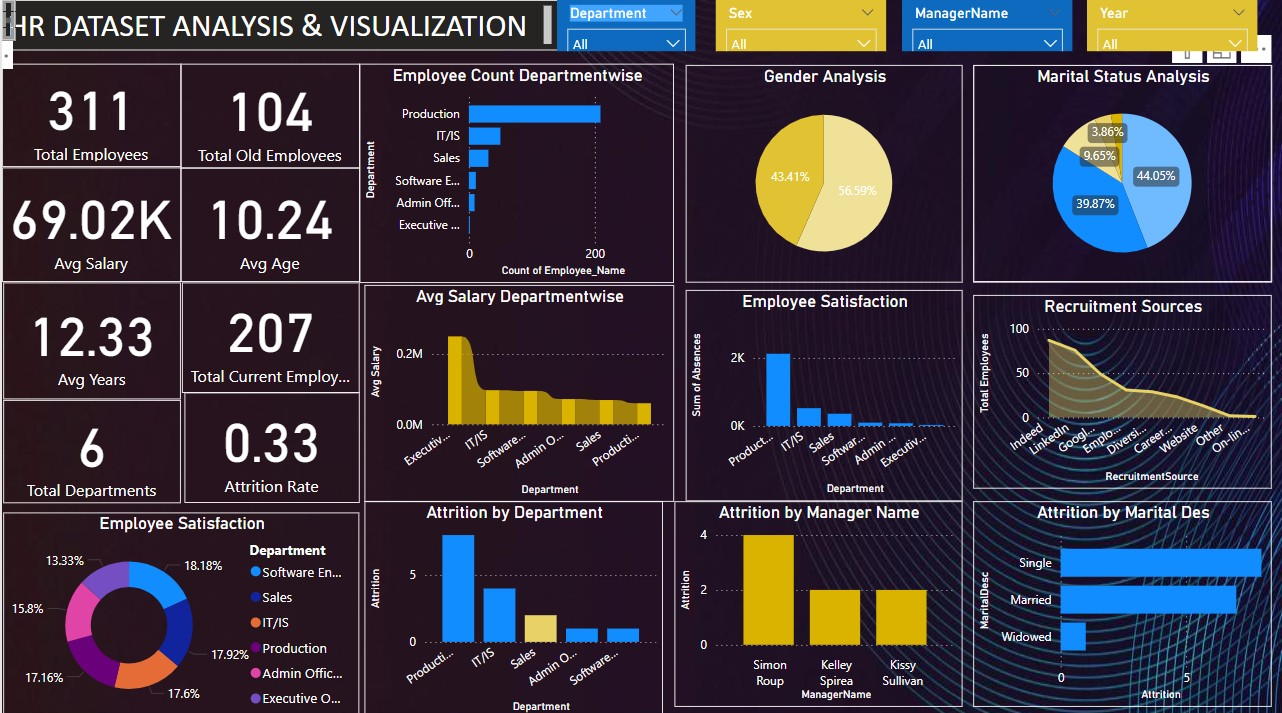

The page's visual inventory and layout, read from the dashboard file:
{"tool":"powerbi","page":{"name":"Page 1","canvas":[1280,720],"ordinal":0},"visuals":[{"type":"textbox","box":[0,0,555.7,50.8],"z":0},{"type":"card","fields":{"Values":["AllEmployees.Total Employees"]},"box":[0,63.2,178.9,103.6],"z":1000},{"type":"card","fields":{"Values":["AllEmployees.Total Old Employees"]},"box":[178.9,63.2,178.9,104.9],"z":2000},{"type":"card","fields":{"Values":["AllEmployees.Avg Salary"]},"box":[0,168.1,178.9,114.3],"z":3000},{"type":"card","fields":{"Values":["AllEmployees.Avg Age"]},"box":[178.9,168.1,178.9,114.3],"z":4000},{"type":"card","fields":{"Values":["AllEmployees.Avg Years"]},"box":[1.3,282.4,177.5,117],"z":5000},{"type":"card","title":"C","fields":{"Values":["AllEmployees.Total Current Employees"]},"box":[180.2,282.4,177.5,110.3],"z":6000},{"type":"card","fields":{"Values":["AllEmployees.Total Departments"]},"box":[1.3,399.4,177.5,103.6],"z":7000},{"type":"card","fields":{"Values":["AllEmployees.Attrition Rate"]},"box":[182.9,392.7,174.8,110.3],"z":8000},{"type":"donutChart","title":"Employee Satisfaction","fields":{"Y":["AllEmployees.EmpSatisfaction"],"Category":["AllEmployees.Department"]},"box":[1.3,512.4,356.4,207.1],"z":9000},{"type":"barChart","title":"Employee Count Departmentwise","fields":{"Category":["AllEmployees.Department"],"Y":["AllEmployees.Employee_Name"]},"box":[357.7,63.2,314.7,219.2],"z":10000},{"type":"pieChart","title":"Gender Analysis","fields":{"Category":["AllEmployees.Sex"],"Y":["AllEmployees.GenderID"]},"box":[683.2,64.6,277,217.9],"z":11000},{"type":"pieChart","title":"Marital Status Analysis","fields":{"Category":["AllEmployees.MaritalStatusID"],"Y":["AllEmployees.MaritalStatusID"]},"box":[971,64.6,298.6,217.9],"z":12000},{"type":"ribbonChart","title":"Avg Salary Departmentwise","fields":{"Category":["AllEmployees.Department"],"Y":["AllEmployees.Avg Salary"]},"box":[363.1,285.1,309.3,216.5],"z":13000},{"type":"clusteredColumnChart","title":"Employee Satisfaction","fields":{"Category":["AllEmployees.Department"],"Y":["AllEmployees.Absences"]},"box":[683.2,290.5,277,211.1],"z":14000},{"type":"areaChart","title":"Recruitment Sources","fields":{"Category":["AllEmployees.RecruitmentSource"],"Y":["AllEmployees.Total Employees"]},"box":[971,294.5,298.6,193.7],"z":15000},{"type":"clusteredColumnChart","title":"Attrition by Department","fields":{"Y":["AllEmployees.Attrition"],"Category":["AllEmployees.Department"]},"box":[363.1,501.6,298.6,217.9],"z":16000},{"type":"clusteredColumnChart","title":"Attrition by Manager Name","fields":{"Y":["AllEmployees.Attrition"],"Category":["AllEmployees.ManagerName"]},"box":[672.4,501.6,287.8,205.8],"z":17000},{"type":"clusteredBarChart","title":"Attrition by Marital Des","fields":{"Y":["AllEmployees.Attrition"],"Category":["AllEmployees.MaritalDesc"]},"box":[971,501.6,298.6,205.8],"z":18000},{"type":"slicer","fields":{"Values":["AllEmployees.Department"]},"box":[555.4,0,138.5,51.1],"z":19000},{"type":"actionButton","box":[0,0,100,40],"z":20000},{"type":"slicer","fields":{"Values":["AllEmployees.Sex"]},"box":[714.1,0,170.8,51.1],"z":21000},{"type":"slicer","fields":{"Values":["AllEmployees.Year"]},"box":[1085.3,0,170.8,51.1],"z":22000},{"type":"slicer","fields":{"Values":["AllEmployees.ManagerName"]},"box":[899.7,0,170.8,51.1],"z":23000}]}

Visuals, with their boxes in screenshot pixels (x1, y1, x2, y2), scaled from the page's 1280x720 canvas onto the 1282x713 screenshot:
textbox: crop(0, 0, 557, 50)
card - AllEmployees.Total Employees: crop(0, 63, 179, 165)
card - AllEmployees.Total Old Employees: crop(179, 63, 358, 166)
card - AllEmployees.Avg Salary: crop(0, 166, 179, 280)
card - AllEmployees.Avg Age: crop(179, 166, 358, 280)
card - AllEmployees.Avg Years: crop(1, 280, 179, 396)
"C" card: crop(180, 280, 358, 389)
card - AllEmployees.Total Departments: crop(1, 396, 179, 498)
card - AllEmployees.Attrition Rate: crop(183, 389, 358, 498)
"Employee Satisfaction" donutChart: crop(1, 507, 358, 712)
"Employee Count Departmentwise" barChart: crop(358, 63, 673, 280)
"Gender Analysis" pieChart: crop(684, 64, 962, 280)
"Marital Status Analysis" pieChart: crop(973, 64, 1272, 280)
"Avg Salary Departmentwise" ribbonChart: crop(364, 282, 673, 497)
"Employee Satisfaction" clusteredColumnChart: crop(684, 288, 962, 497)
"Recruitment Sources" areaChart: crop(973, 292, 1272, 483)
"Attrition by Department" clusteredColumnChart: crop(364, 497, 663, 712)
"Attrition by Manager Name" clusteredColumnChart: crop(673, 497, 962, 701)
"Attrition by Marital Des" clusteredBarChart: crop(973, 497, 1272, 701)
slicer - AllEmployees.Department: crop(556, 0, 695, 51)
actionButton: crop(0, 0, 100, 40)
slicer - AllEmployees.Sex: crop(715, 0, 886, 51)
slicer - AllEmployees.Year: crop(1087, 0, 1258, 51)
slicer - AllEmployees.ManagerName: crop(901, 0, 1072, 51)
